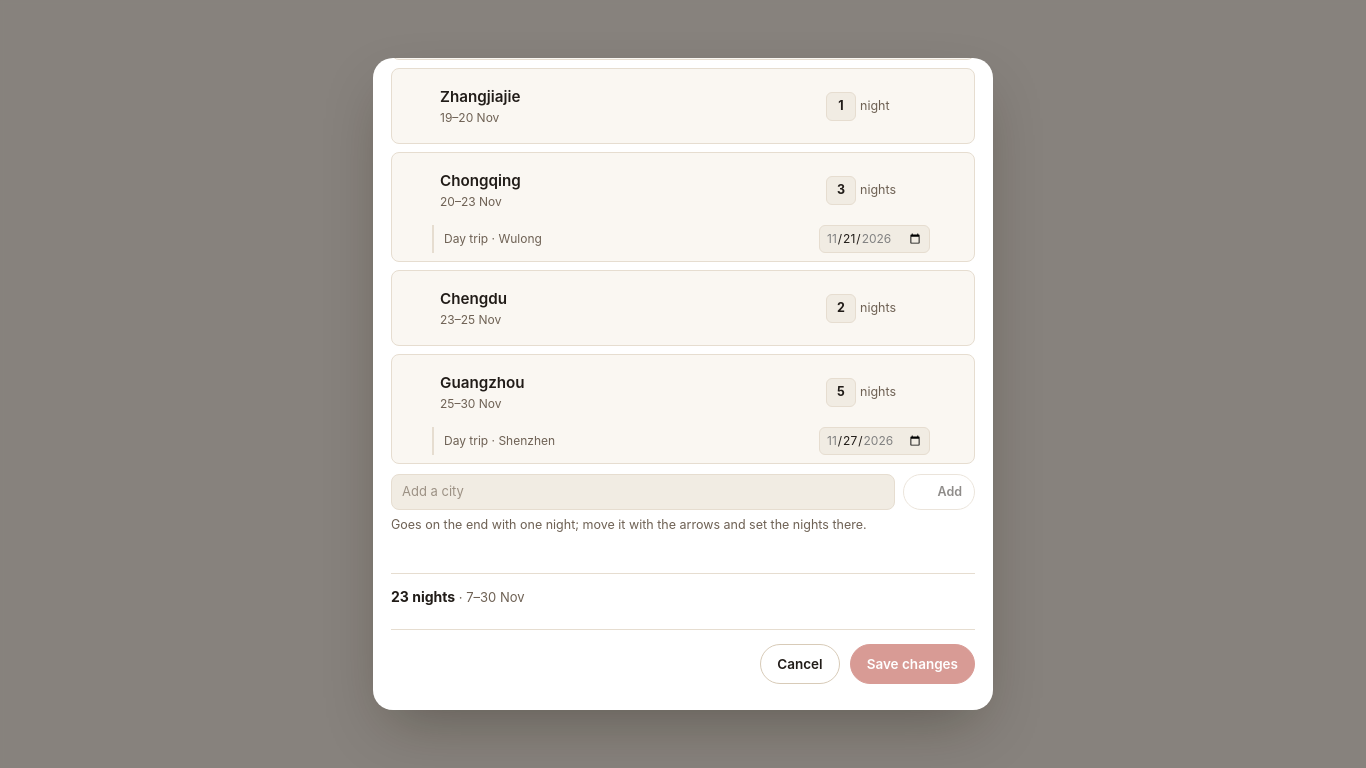
Scenario: adding a leg › refuses a duplicate name and says why, without touching the draft
(page scrolled)
Type "shanghai" into the field named "New city name" at (643, 492), box [391,474,896,510]
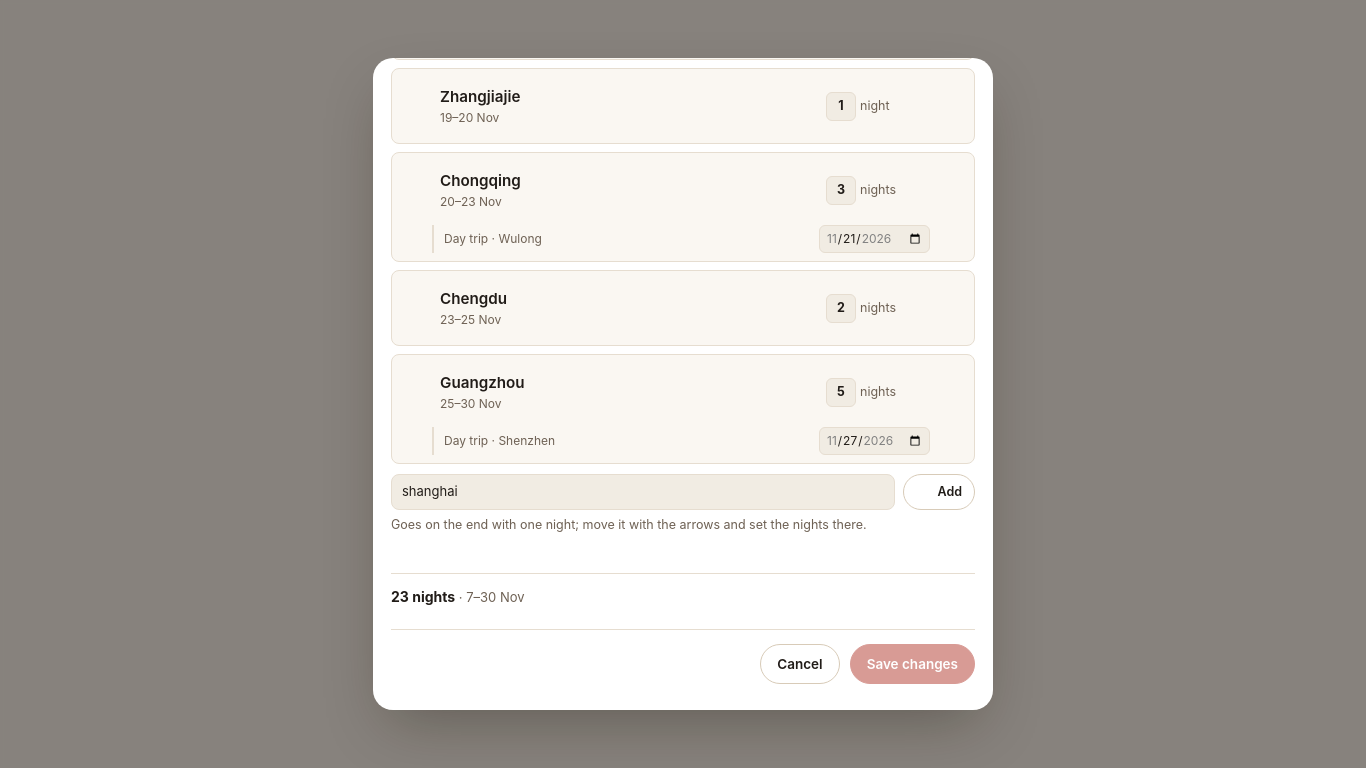
Click the button "Add" at (939, 492), box [904,474,975,510]
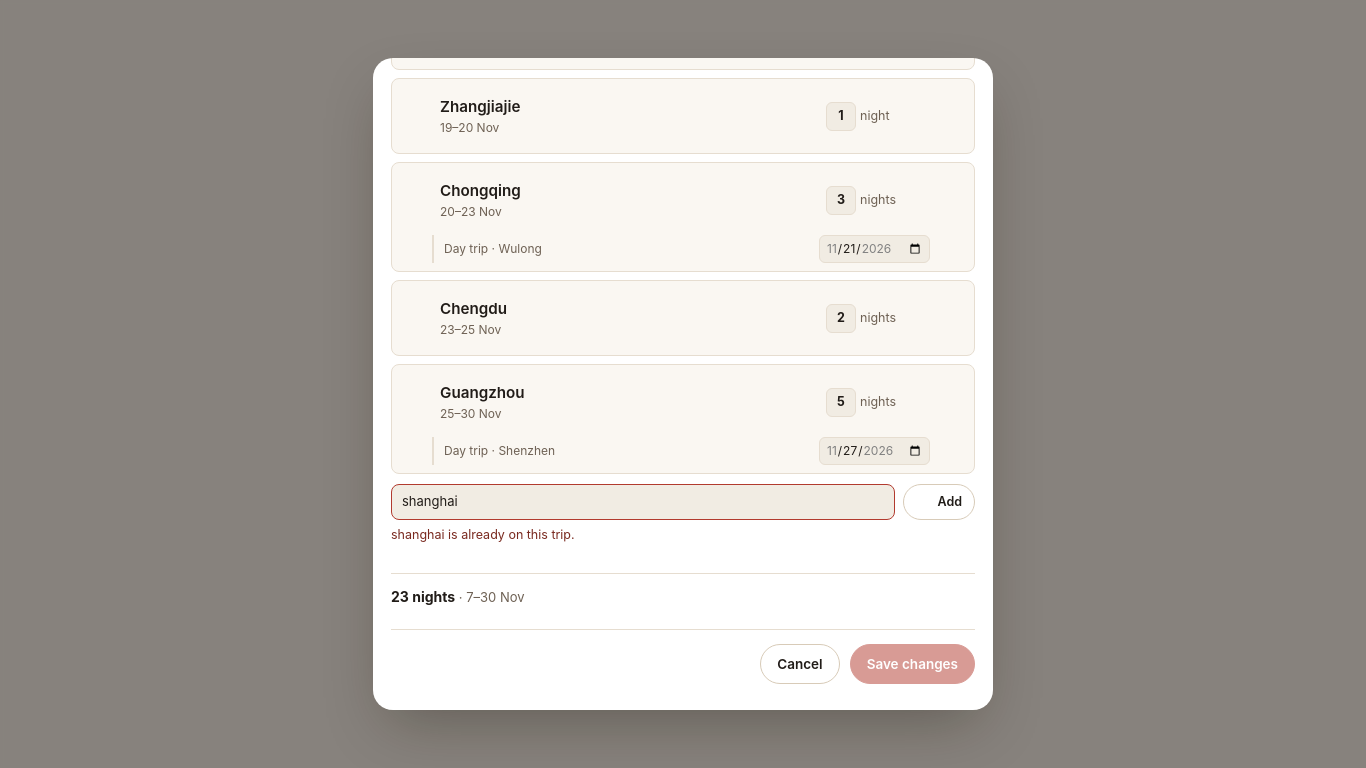
Expected: the text "23 nights" is shown, [391,588,455,605]
Result: the message reads "shanghai is already on this trip." at [391,527,575,542]
